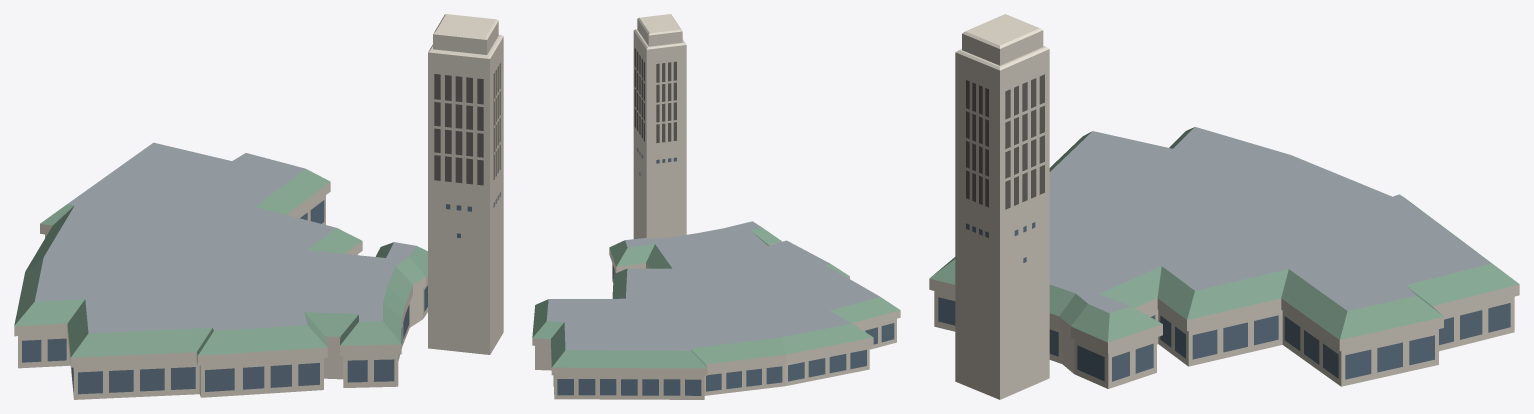
Rendered from niagara-rainbow-tower.glb.
The picture shows the model from 3 angles, left to right: view 1: azimuth 30°, elevation 25°; view 2: azimuth 150°, elevation 25°; view 3: azimuth 270°, elevation 25°; orthographic projection. The views are drawn at different scales.
Parts seen in each view (by area): view 1: Rainbow Tower; view 2: Rainbow Tower; view 3: Rainbow Tower.
Boxes of the visible parts, <box> form: Rainbow Tower: <box>14,14,503,399</box>; Rainbow Tower: <box>532,14,900,399</box>; Rainbow Tower: <box>929,14,1519,399</box>.
Bounding box in the file's own units: 67.88 × 50.3 × 76.84.
